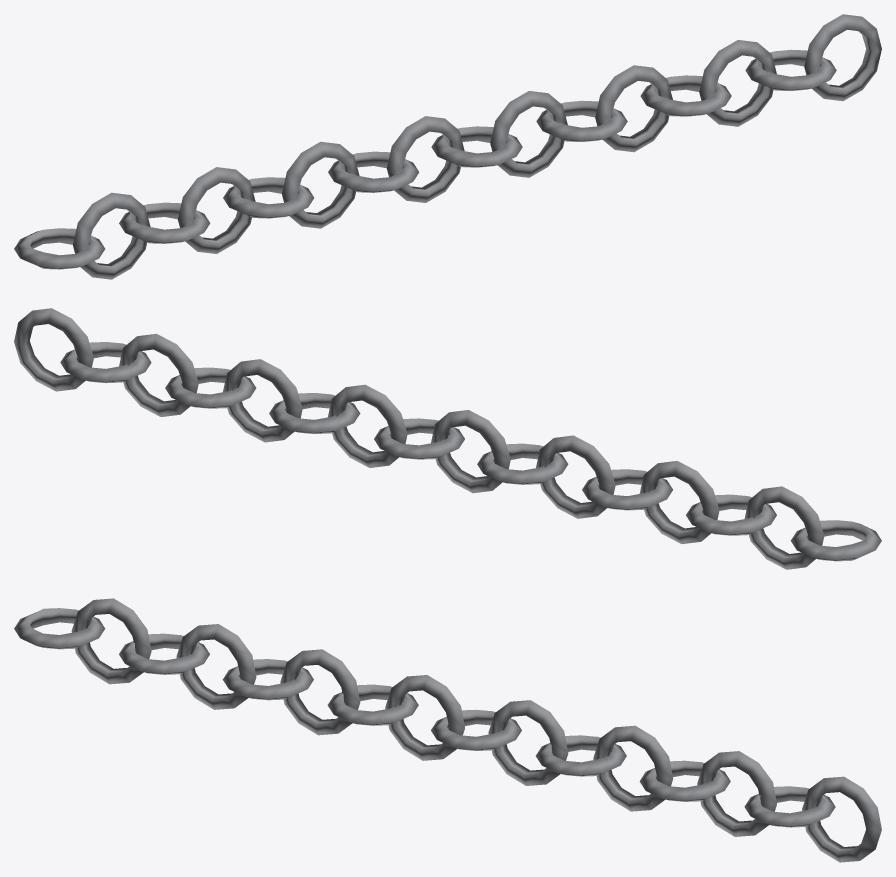
File: bunker_chain.glb
3 renders of one model, top to bottom at view 1: azimuth 30°, elevation 25°; view 2: azimuth 150°, elevation 25°; view 3: azimuth 330°, elevation 25°, orthographic.
Parts seen in each view (by area): view 1: bunker_chain; view 2: bunker_chain; view 3: bunker_chain.
Part boxes in pixels (x1,y1,x2,y2): bunker_chain: (14, 14, 881, 279); bunker_chain: (14, 308, 881, 569); bunker_chain: (14, 598, 881, 862).
Size of the model in its own units: 2.05 by 0.1927 by 0.1929.
1 material, 1 textured.
